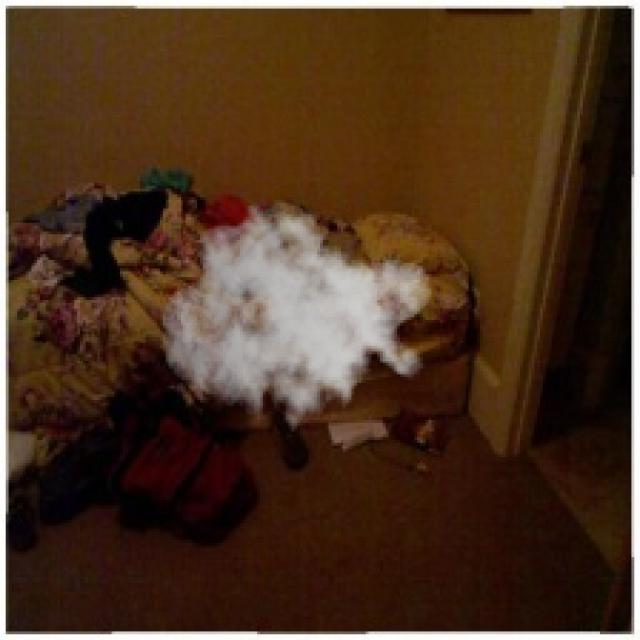Smoke: (160, 197, 434, 443)
